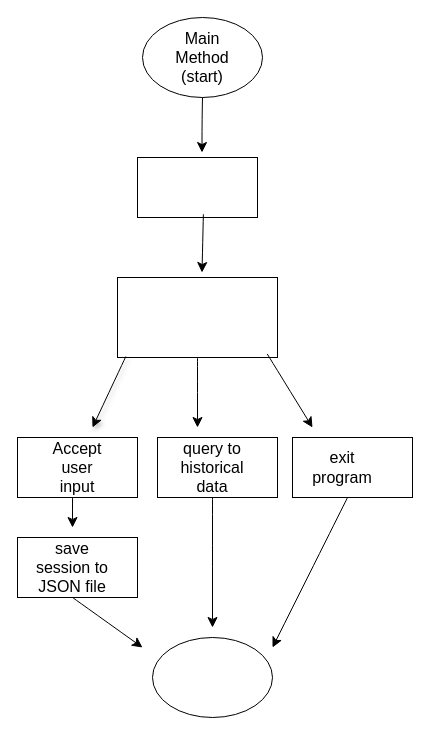
Some shapes in this 430 by 735 pixel diagram are drawn without their labels. Here are the shapes that lost their labels. From the top down, the centre of each, then its label:
At point 197,187: "Load Workout Data from JSON files".
At point 197,317: "Display Menu (log workot, view training split, exit)".
At point 212,677: "program exit".
